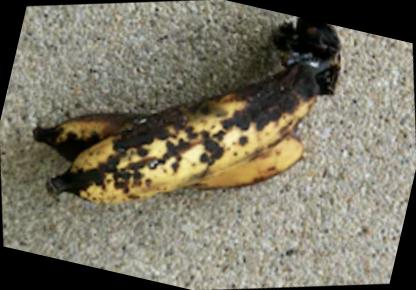Banana Overripe: (13, 0, 371, 277)
